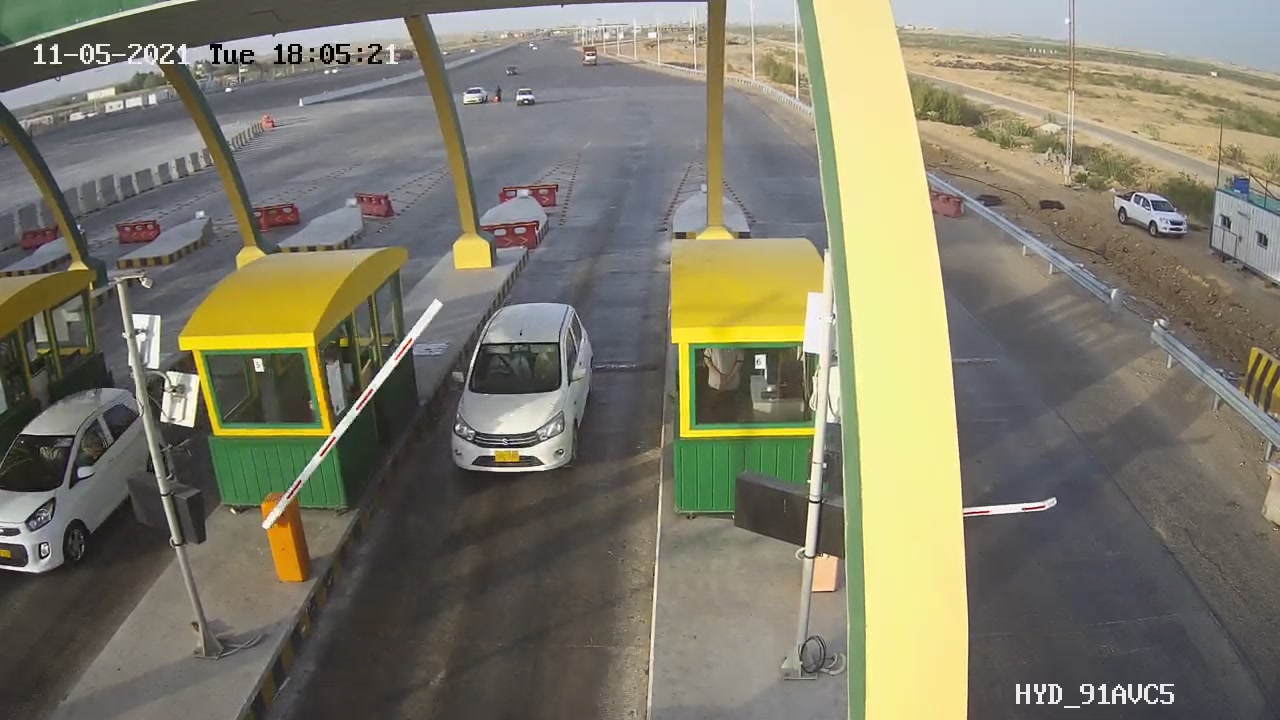F1: (430, 295, 614, 505)
